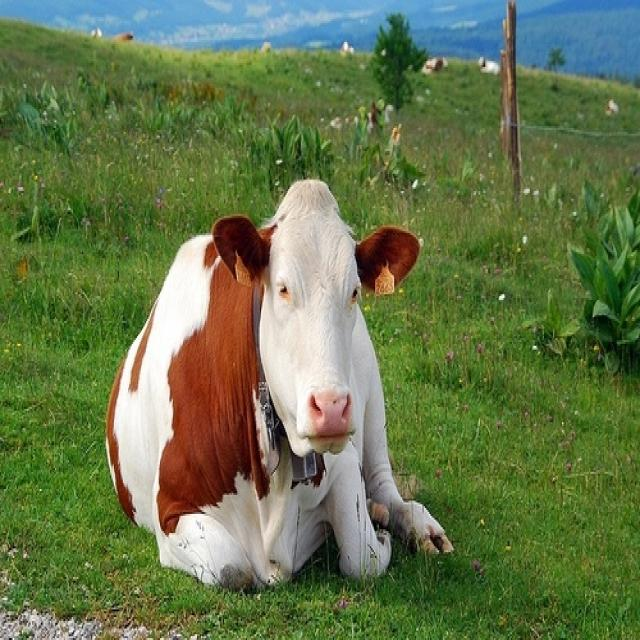cow: (90, 174, 463, 640)
